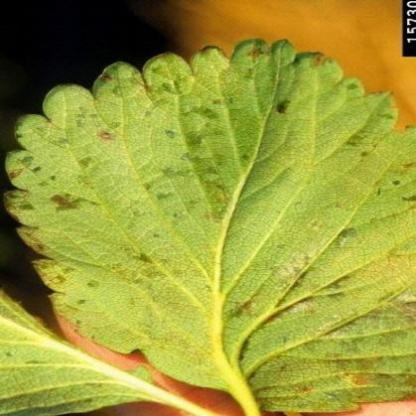Strawberry_Angular_LeafSpot: (2, 37, 416, 412)
